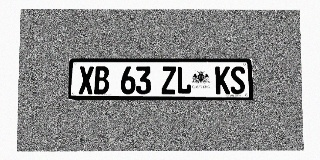3: (136, 66, 151, 94)
6: (121, 66, 135, 94)
B: (94, 66, 109, 94)
K: (215, 66, 230, 94)
L: (176, 66, 191, 94)
S: (230, 66, 245, 94)
X: (79, 66, 94, 94)
Z: (161, 66, 176, 94)
